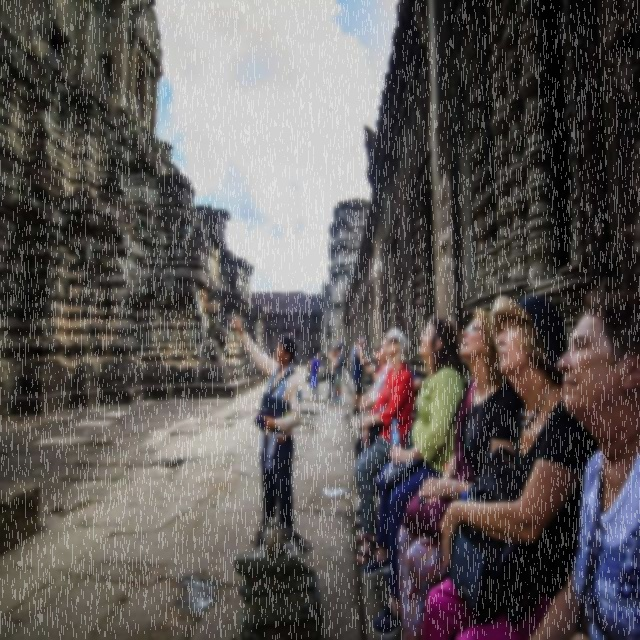pessoa: (420, 292, 600, 640), (522, 276, 640, 640), (395, 304, 521, 640), (361, 314, 466, 640), (230, 315, 303, 532), (352, 326, 417, 566), (355, 328, 411, 530), (352, 336, 371, 416), (364, 343, 388, 392), (350, 335, 368, 394), (365, 344, 388, 386), (306, 350, 322, 400), (404, 359, 424, 396), (332, 344, 344, 404), (326, 348, 338, 400), (372, 469, 381, 499), (337, 334, 344, 354), (292, 359, 296, 372), (266, 352, 271, 358), (336, 352, 338, 358), (334, 347, 336, 350)
